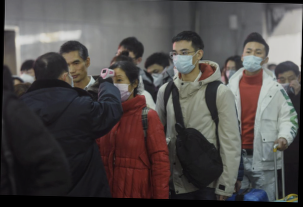with_mask: (170, 46, 197, 75), (107, 73, 132, 103), (241, 46, 266, 73), (277, 72, 297, 94), (144, 66, 164, 86), (17, 68, 35, 85), (224, 64, 236, 79)
without_mask: (64, 57, 85, 82)
